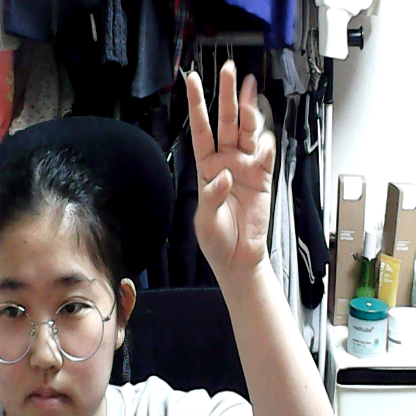Finger_4: (158, 36, 295, 293)
